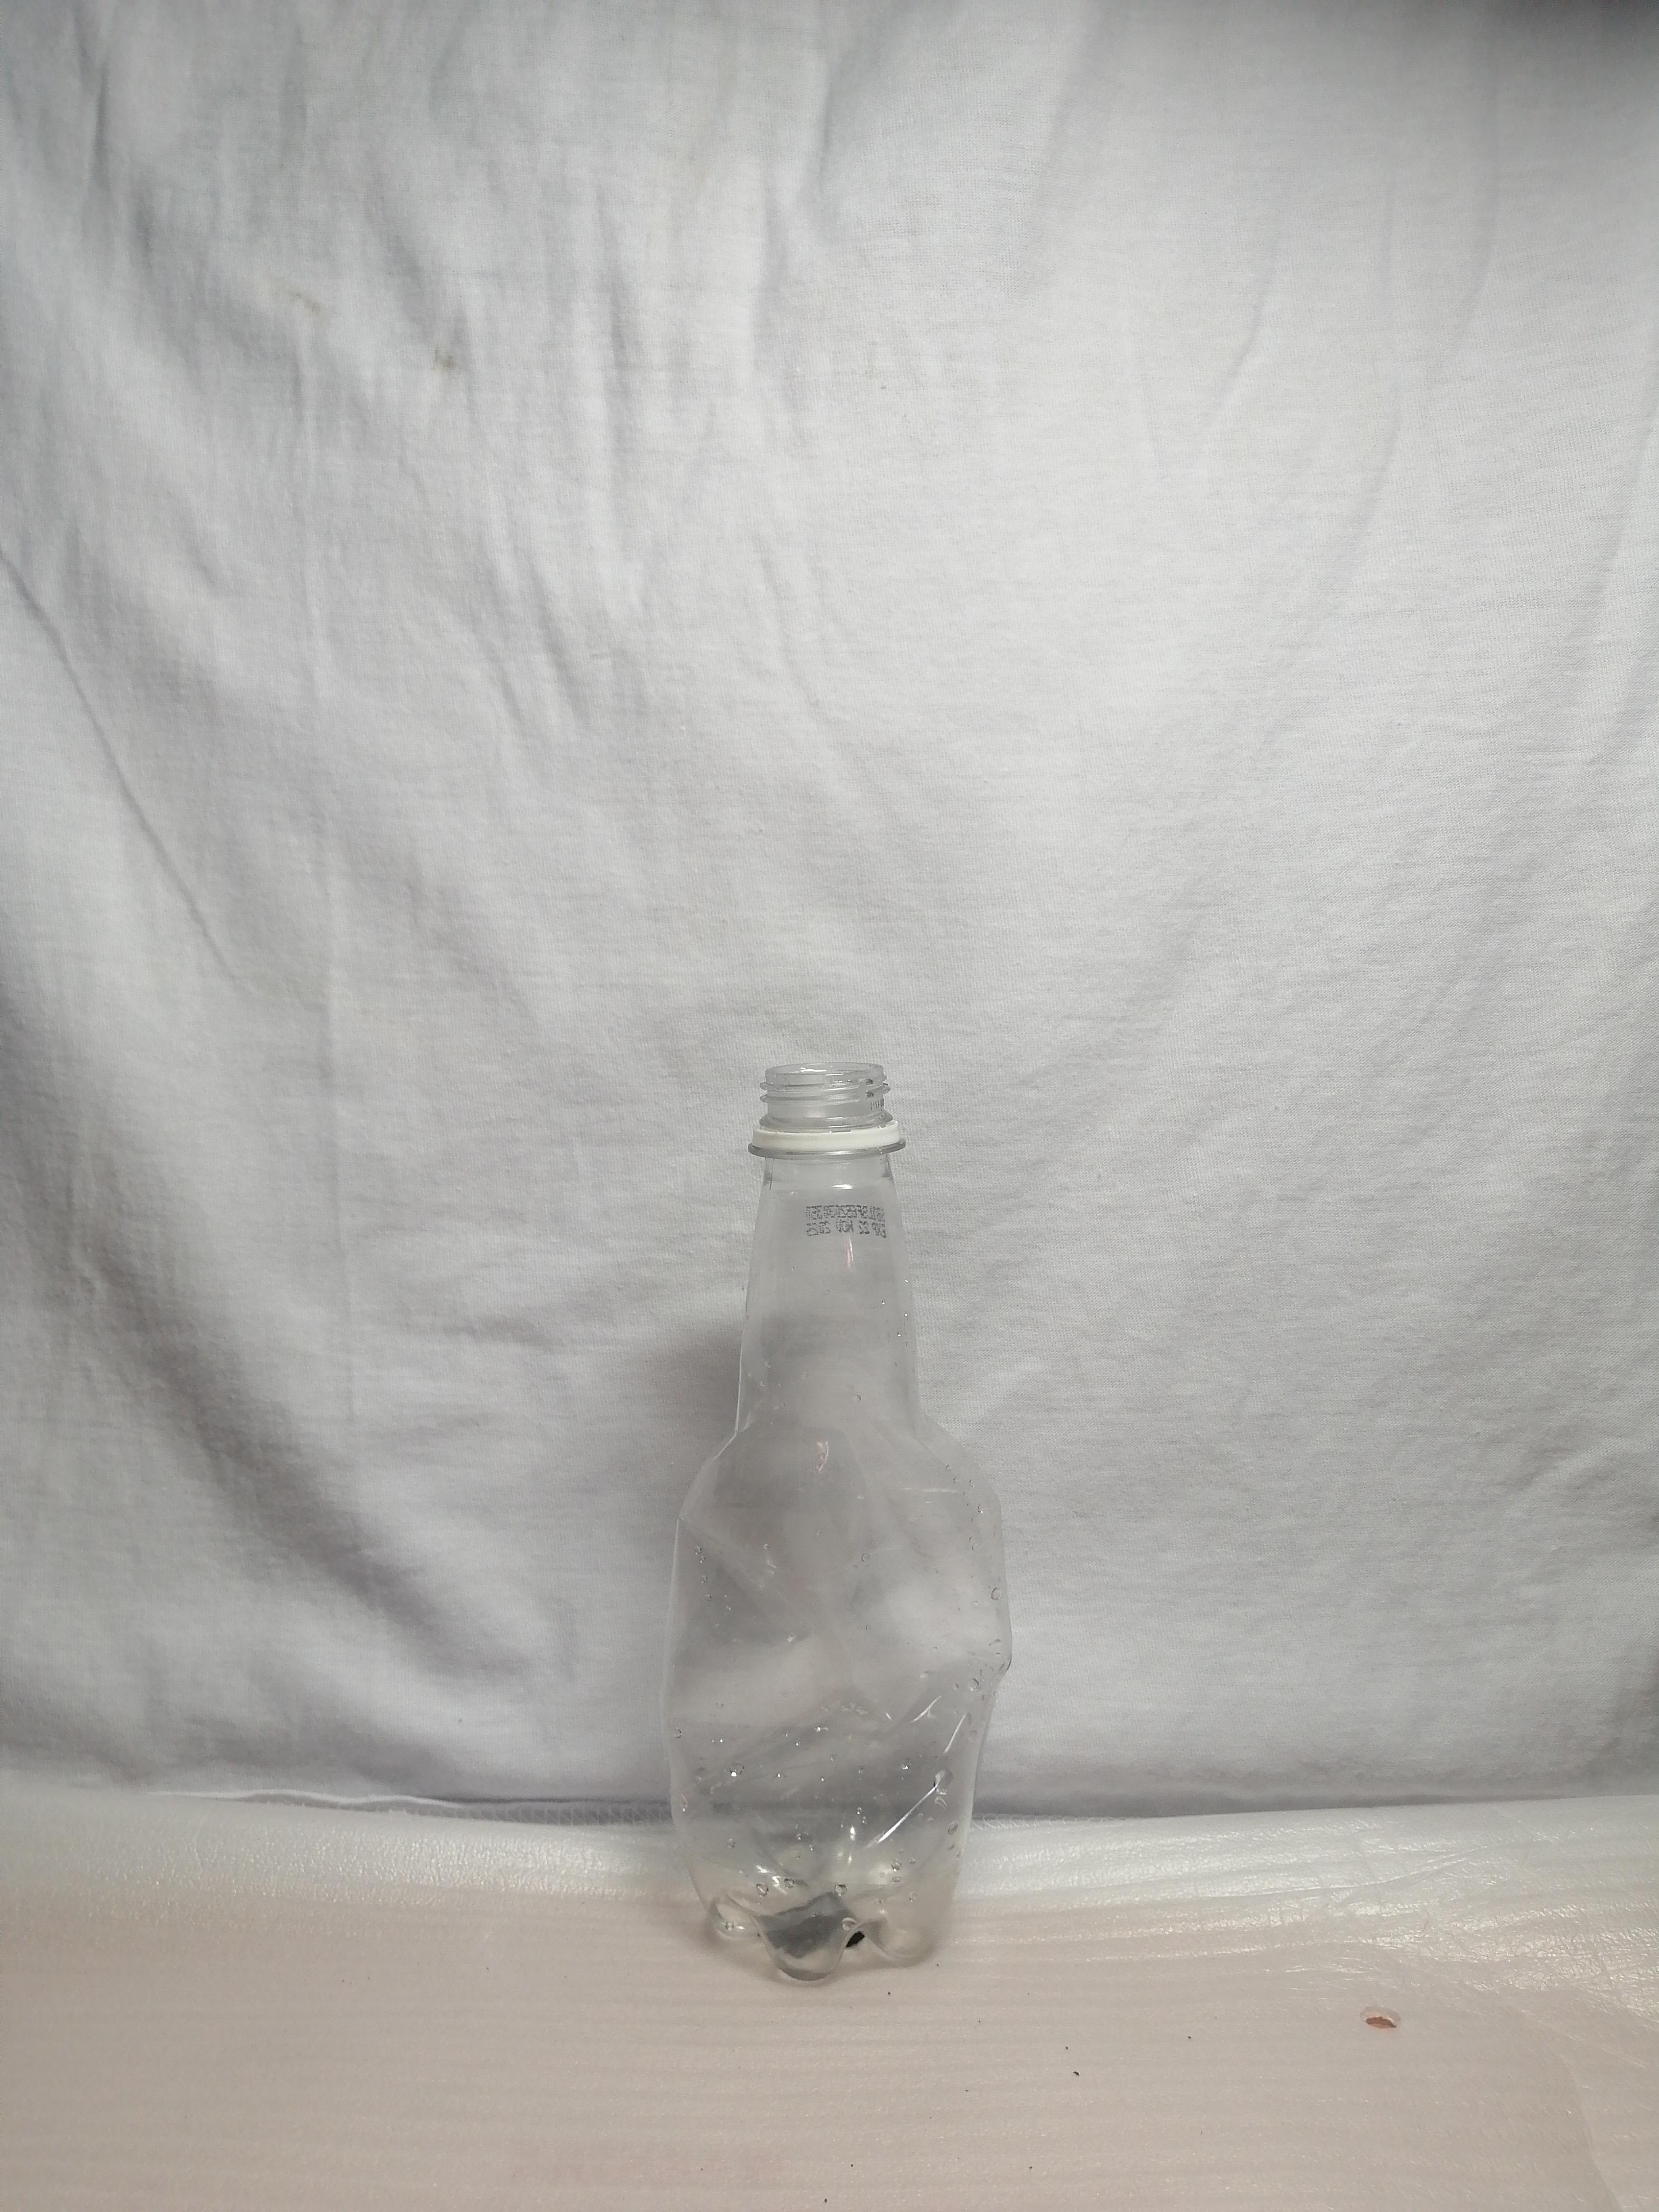plastic-bottle: (634, 984, 1003, 2045)
